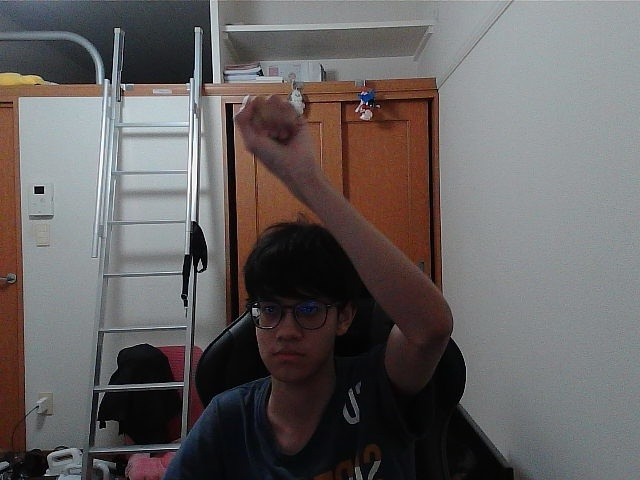closed_palm: (241, 102, 296, 134)
